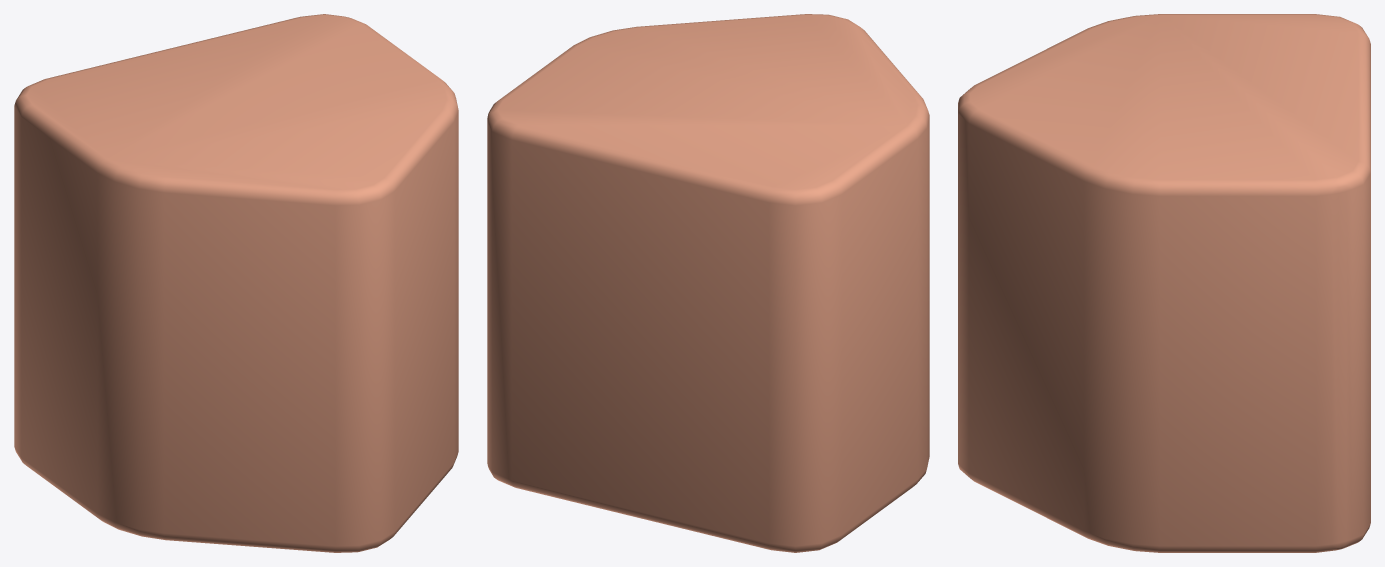
The model's file is island_lv8_1.fbx.
The picture shows the model from 3 angles, left to right: view 1: azimuth 30°, elevation 25°; view 2: azimuth 150°, elevation 25°; view 3: azimuth 270°, elevation 25°; orthographic projection. The views are drawn at different scales.
Parts seen in each view (by area): view 1: island_lv8_1; view 2: island_lv8_1; view 3: island_lv8_1.
Boxes of the visible parts, box(x1,y1,x2,y2) form: island_lv8_1: box(14, 14, 458, 552); island_lv8_1: box(487, 14, 929, 552); island_lv8_1: box(958, 14, 1370, 552).
Bounding box in the file's own units: 505 × 500 × 503.
